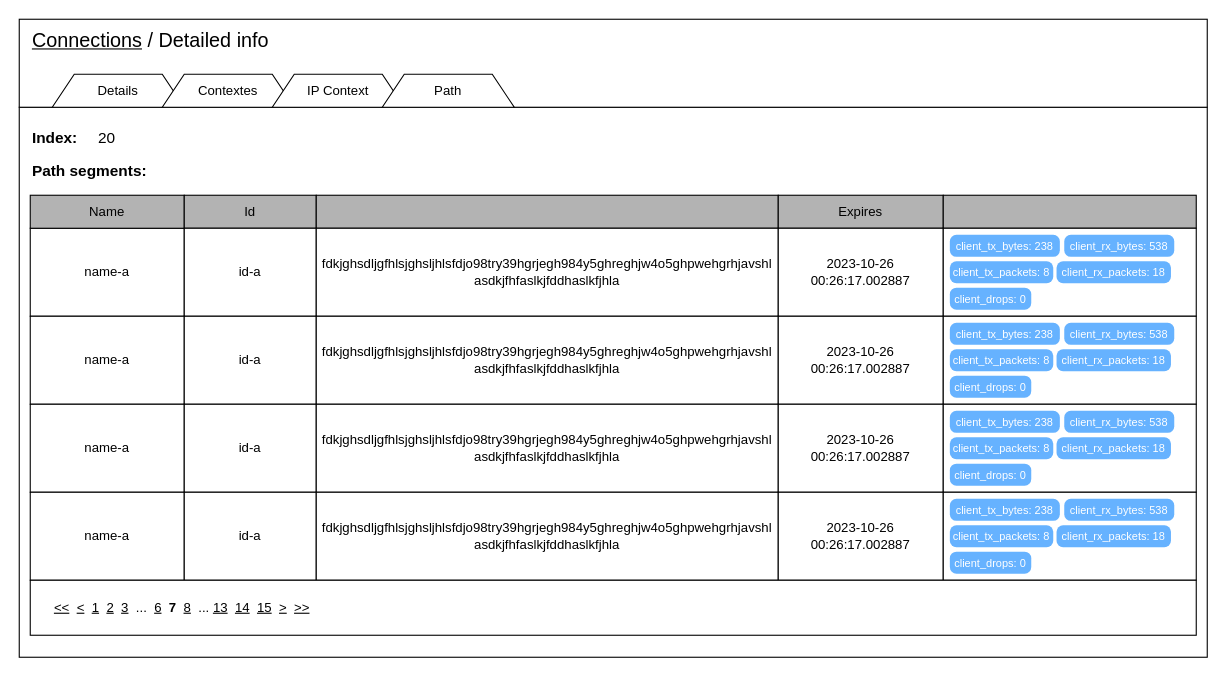
Some shapes in this 1227 by 677 pixel diagram are drawn without their labels. The shapes that lost their labels are listed below. From the top down, each one's box as (x1, y1, x2, y2) in pixels, then its label:
(315, 194, 778, 228): Token
(942, 194, 1196, 228): metrics
